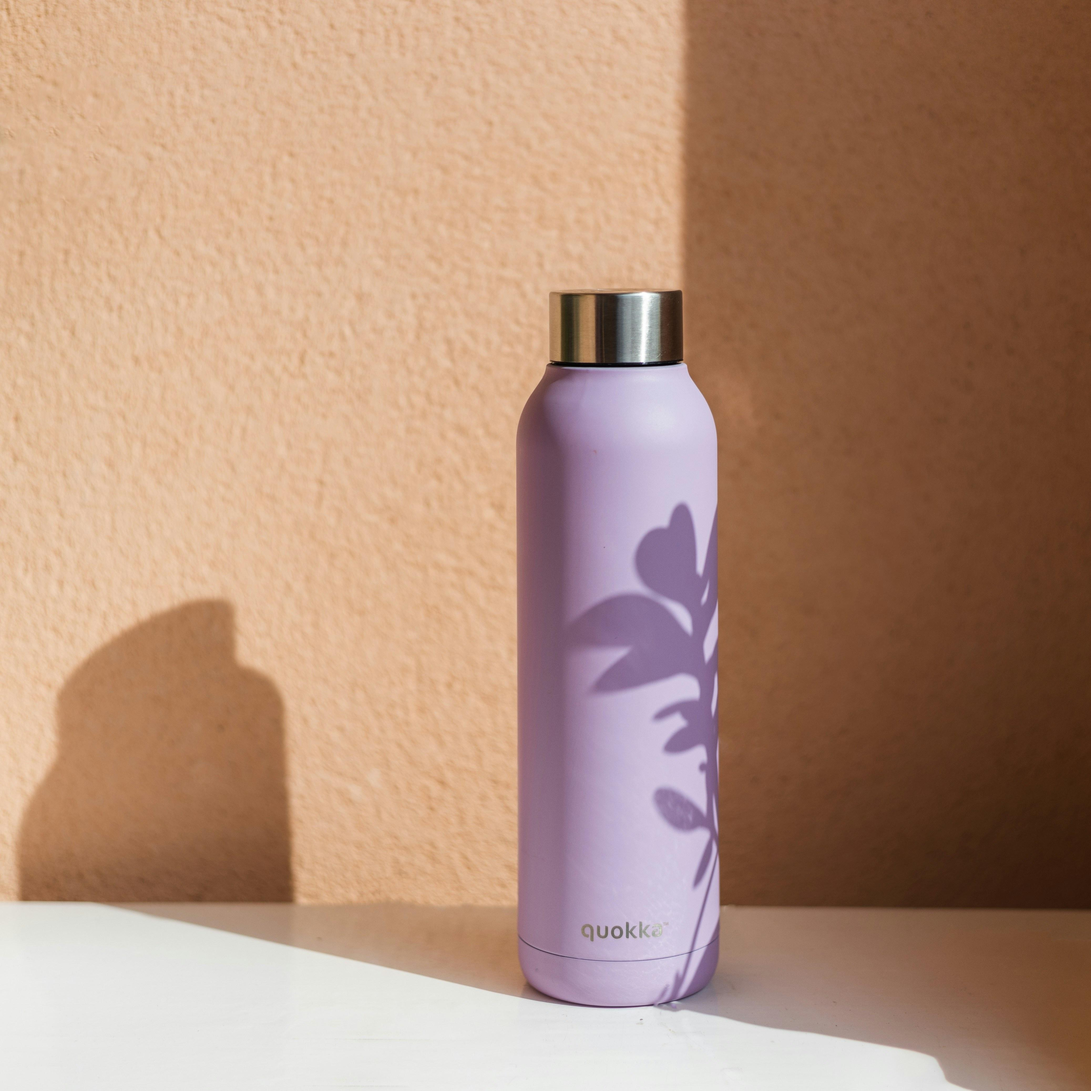Bottle-Detection: (457, 237, 773, 1057)
